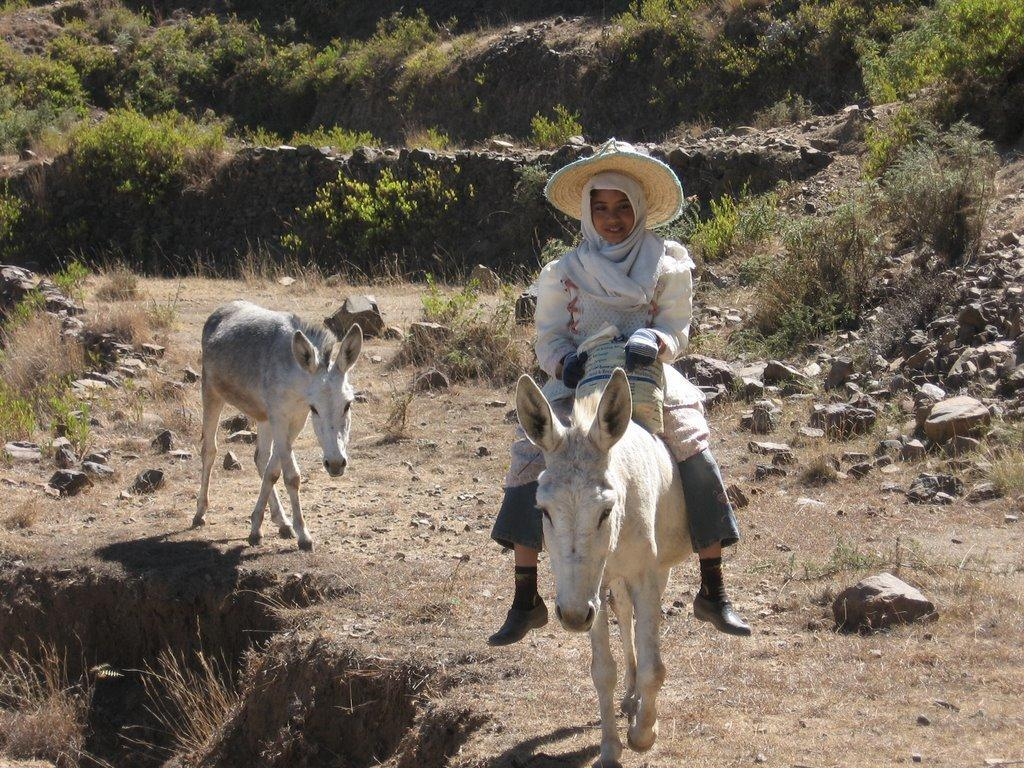Hat: (546, 136, 686, 232)
